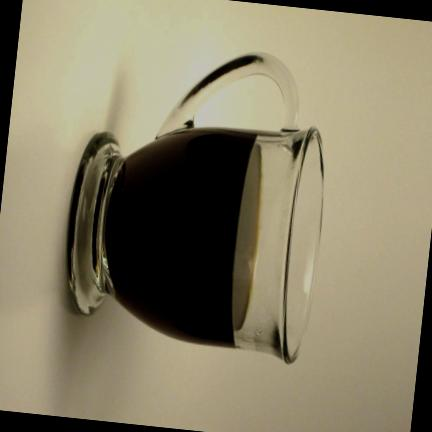container: (104, 130, 323, 366)
